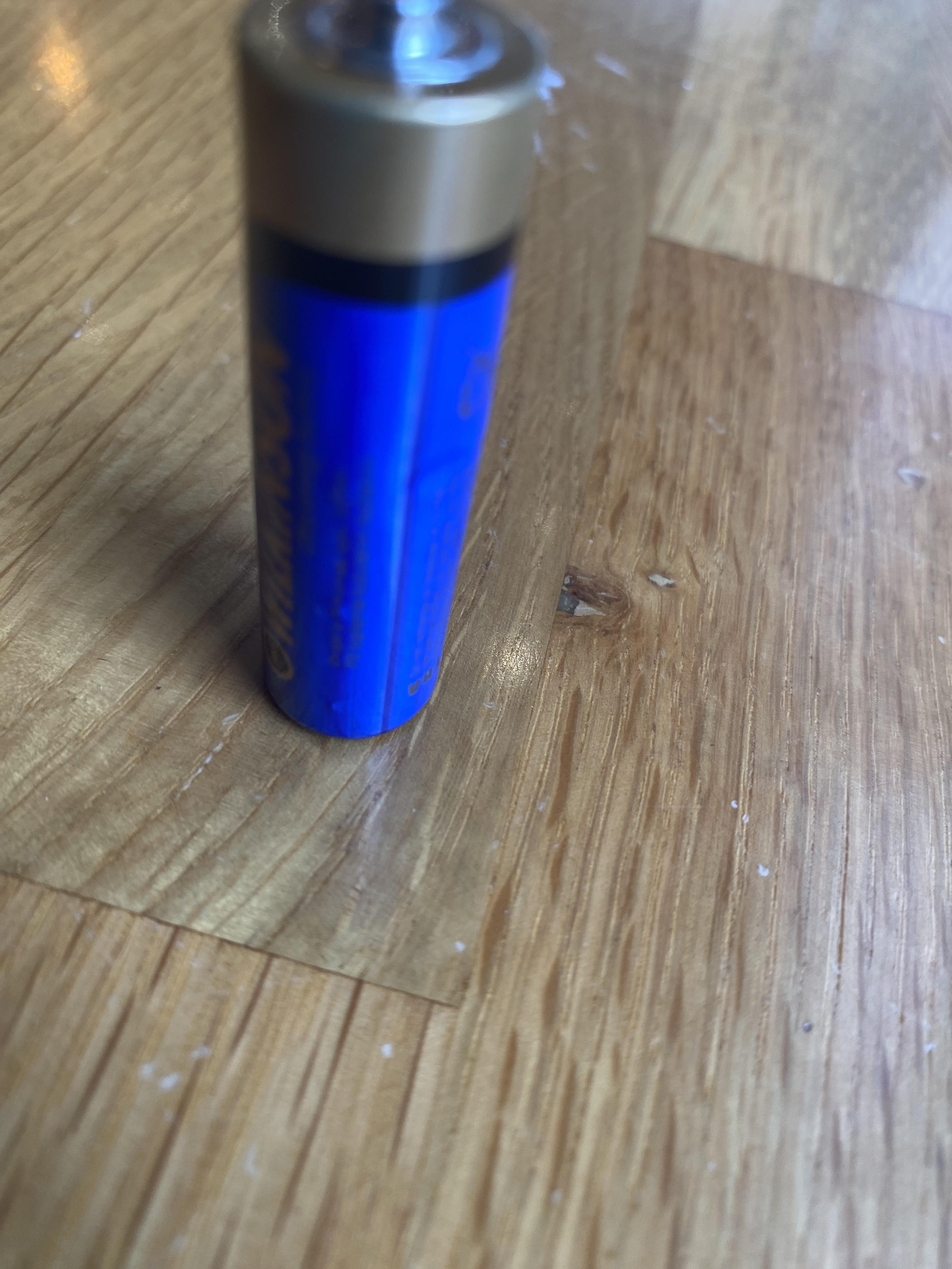AA: (230, 0, 555, 750)
